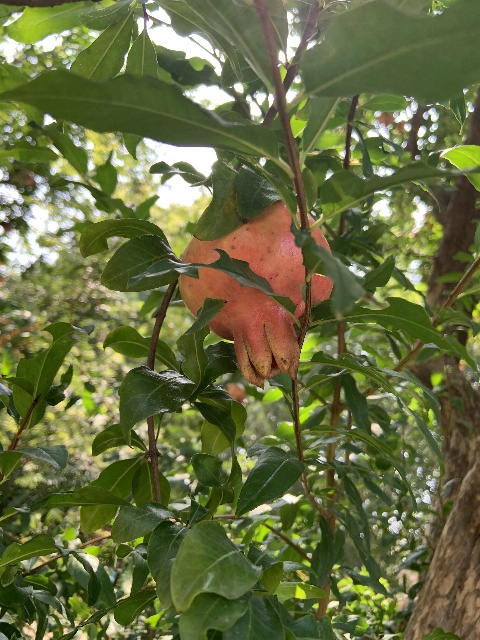ripe: (177, 200, 333, 388)
